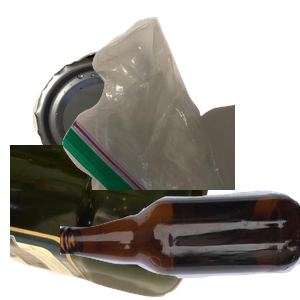glass: (60, 188, 300, 300)
metal: (30, 46, 205, 215)
plastic: (10, 145, 213, 300)
trash: (60, 14, 300, 194)
